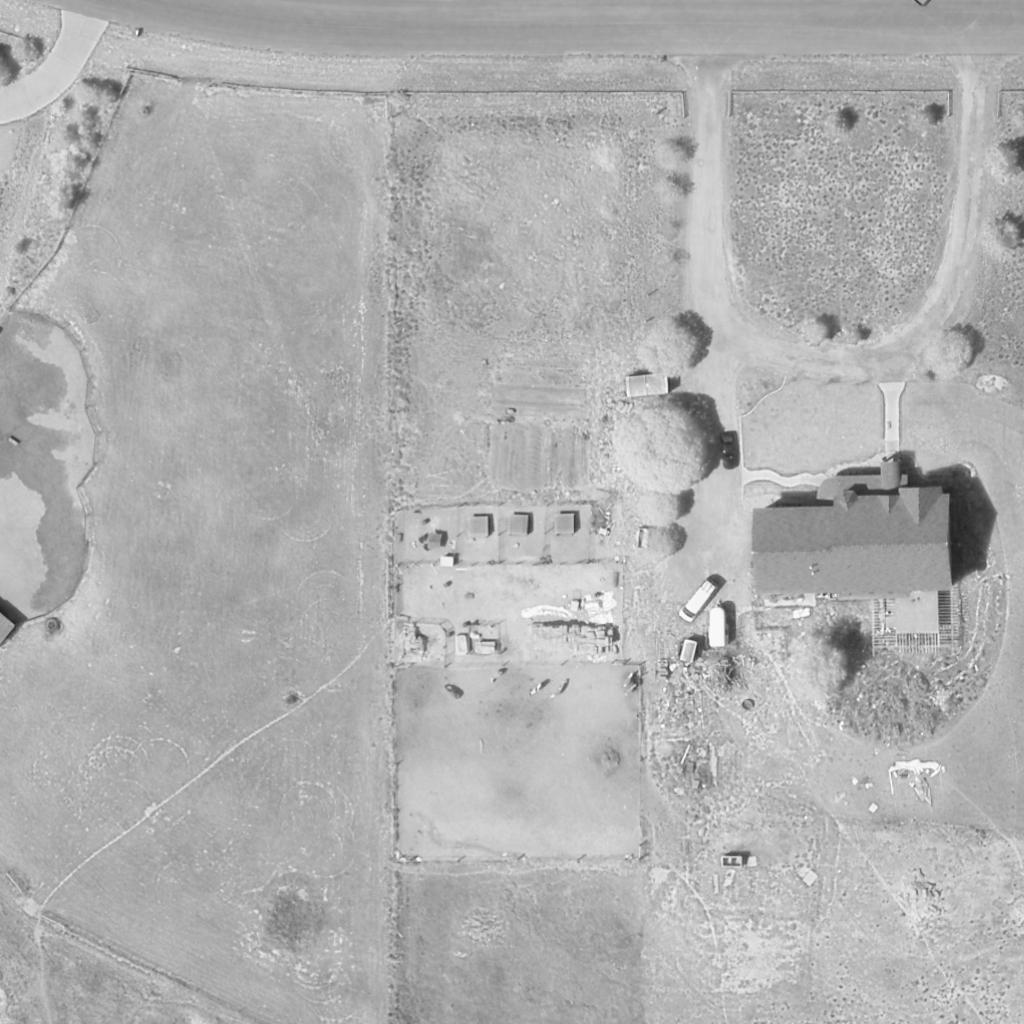vehicle: (679, 582, 723, 626), (715, 429, 743, 471), (708, 603, 730, 651)
